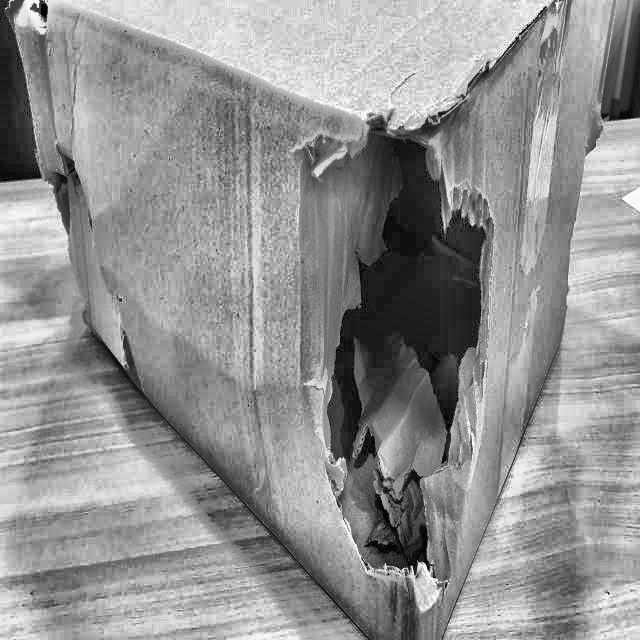box: (0, 0, 625, 639)
hole: (304, 108, 494, 601), (40, 114, 92, 237)
